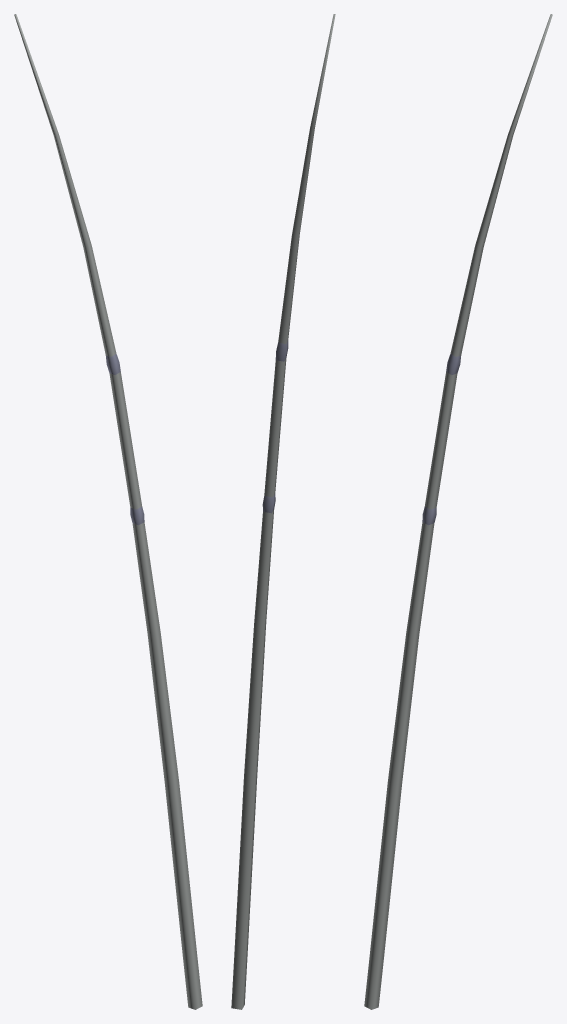
The picture shows the model from 3 angles, left to right: view 1: azimuth 90°, elevation 25°; view 2: azimuth 210°, elevation 25°; view 3: azimuth 270°, elevation 25°; orthographic projection. The views are drawn at different scales.
Parts seen in each view (by area): view 1: G:\FFXIV-MapTools\exports\s1f3\bg\ffxiv\sea_s1\fld\s1f3\bgpa (×2); view 2: G:\FFXIV-MapTools\exports\s1f3\bg\ffxiv\sea_s1\fld\s1f3\bgpa (×2); view 3: G:\FFXIV-MapTools\exports\s1f3\bg\ffxiv\sea_s1\fld\s1f3\bgpa (×2).
Part boxes in pixels (x1,y1,x2,y2): G:\FFXIV-MapTools\exports\s1f3\bg\ffxiv\sea_s1\fld\s1f3\bgpa (×2): [14, 14, 202, 1009]; G:\FFXIV-MapTools\exports\s1f3\bg\ffxiv\sea_s1\fld\s1f3\bgpa (×2): [231, 14, 335, 1009]; G:\FFXIV-MapTools\exports\s1f3\bg\ffxiv\sea_s1\fld\s1f3\bgpa (×2): [364, 14, 552, 1009].
Size of the model in its own units: 0.0525 by 3.96 by 0.6817.
